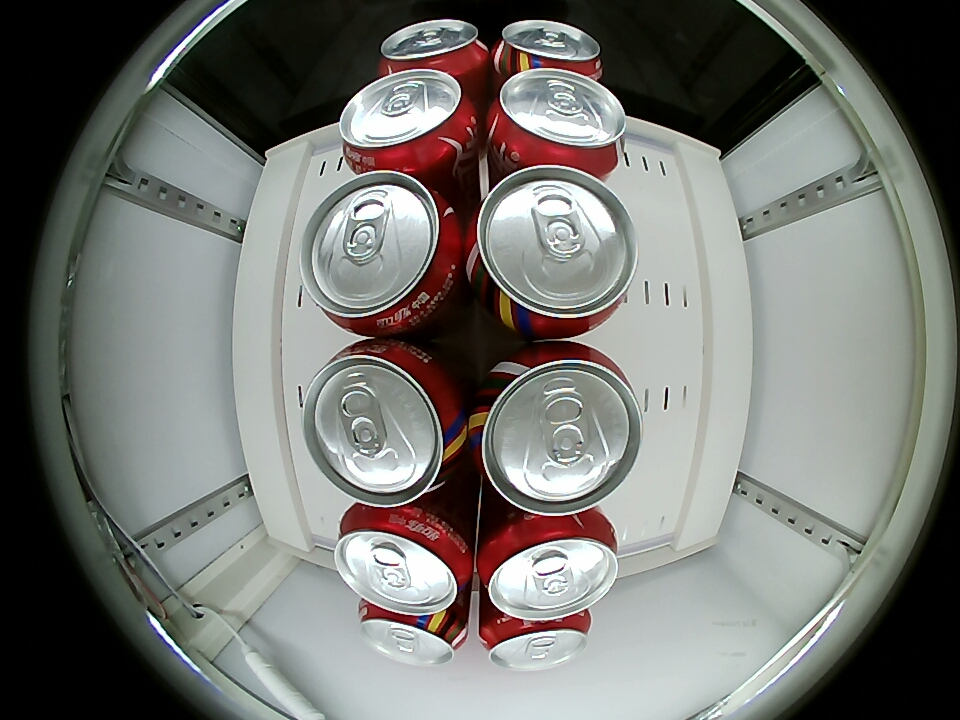kele: (468, 342, 643, 517), (464, 165, 640, 339), (301, 340, 467, 505), (302, 172, 464, 337), (335, 504, 474, 615), (476, 514, 619, 621), (338, 68, 478, 172), (487, 68, 627, 171), (356, 600, 467, 667), (479, 611, 591, 671), (490, 20, 603, 77), (379, 19, 488, 76)
